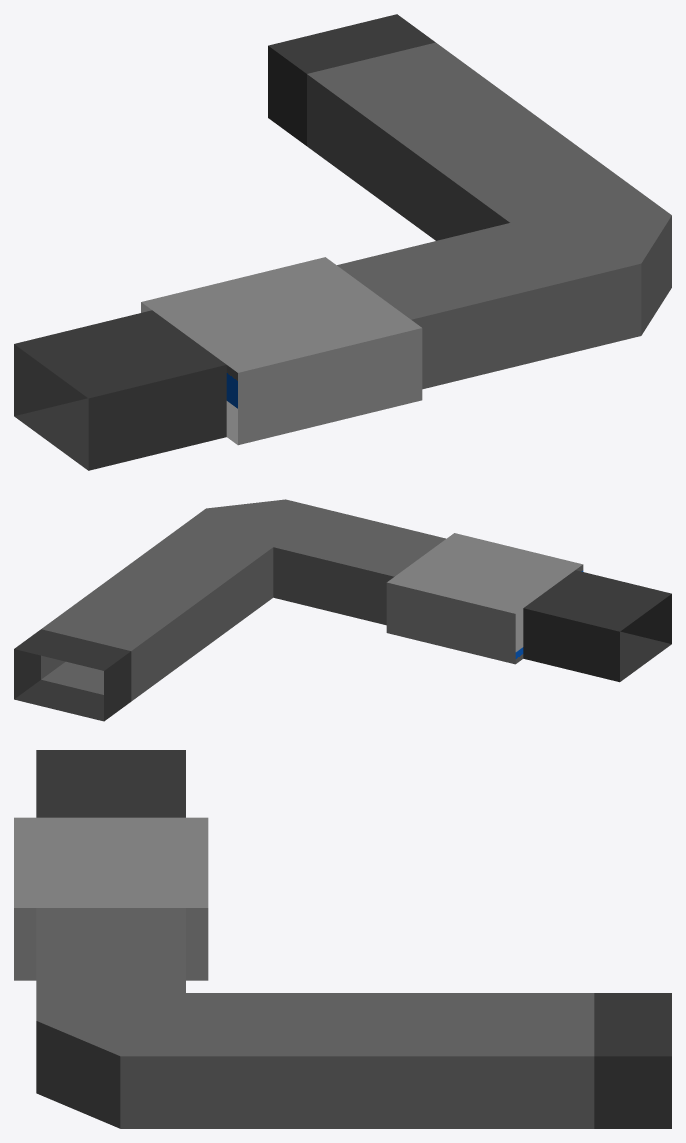
The model's file is LowSegment2.fbx.
The picture shows the model from 3 angles, top to bottom: view 1: azimuth 30°, elevation 25°; view 2: azimuth 150°, elevation 25°; view 3: azimuth 270°, elevation 25°; orthographic projection. The views are drawn at different scales.
Parts seen in each view (by area): view 1: ROwnSegment; view 2: ROwnSegment; view 3: ROwnSegment.
Part boxes in pixels (x1=…): ROwnSegment: x1=14, y1=14, x2=671, y2=470; ROwnSegment: x1=14, y1=499, x2=671, y2=721; ROwnSegment: x1=14, y1=750, x2=671, y2=1128.
Size of the model in its own units: 136 by 15 by 123.
